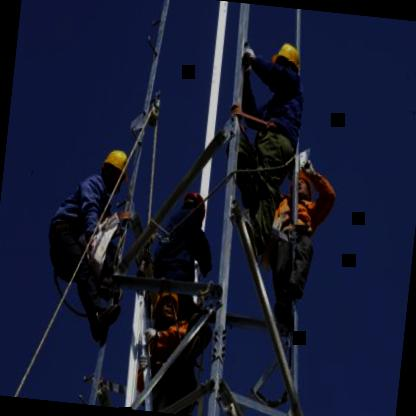helmet: (268, 38, 300, 87), (97, 143, 129, 191), (151, 284, 180, 328), (288, 164, 318, 206), (176, 188, 209, 226)
